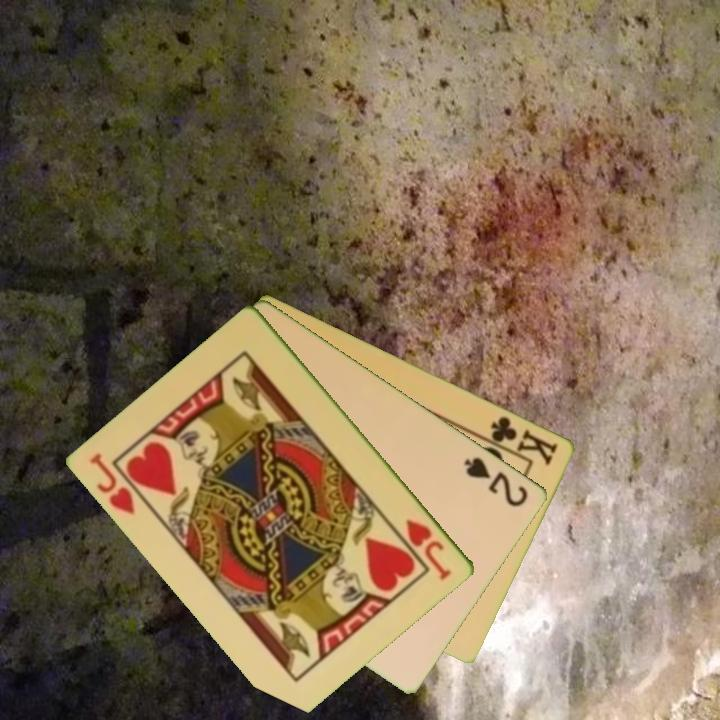2s: (460, 453, 532, 510)
Jh: (402, 515, 455, 583), (87, 449, 139, 518)
Kc: (479, 412, 561, 469)
